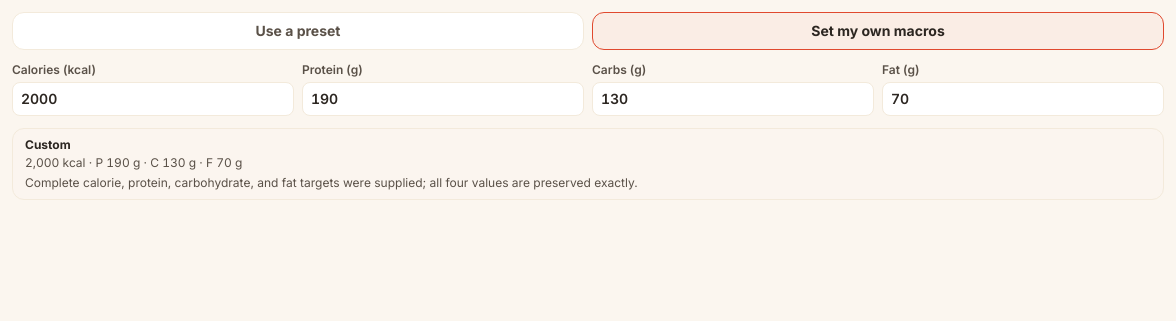
Test: MacroTargetEditor preset confirmation › cancels without changing custom targets or mode
Click the button "Use a preset".
click(298, 31)  # box x1=12 y1=12 x2=584 y2=50
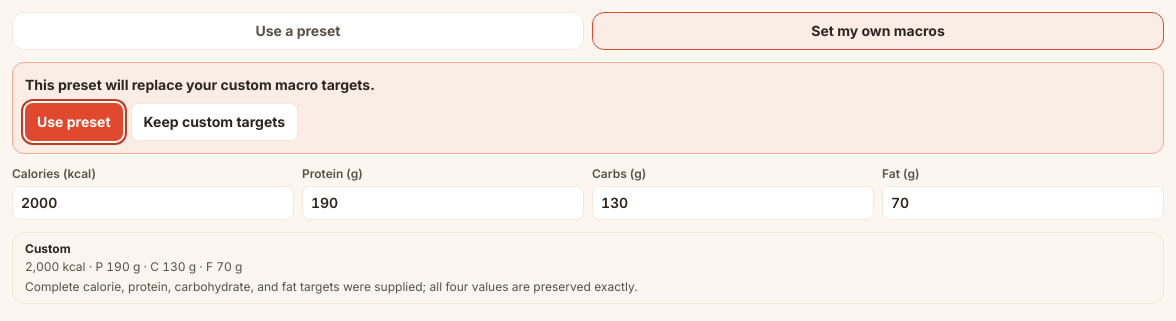
Click the button "Keep custom targets".
click(214, 122)  # box x1=131 y1=103 x2=298 y2=141
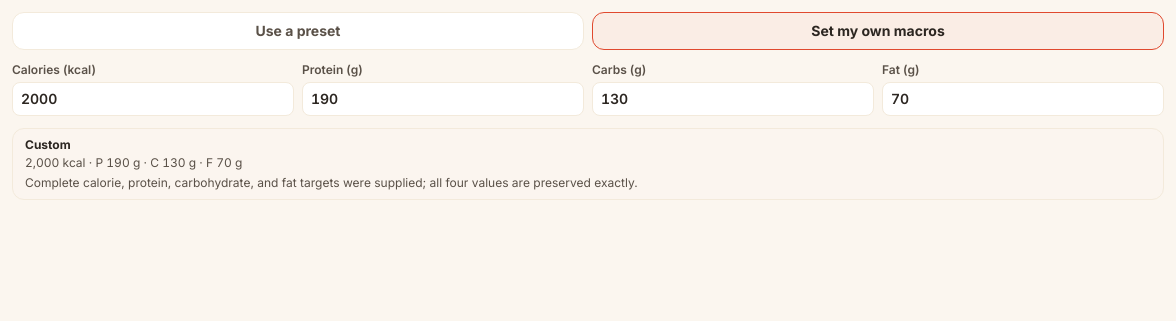
Expected: the number field labelled "Protein (g)" holds "190", x1=302 y1=82 x2=584 y2=116
Now the message is gone
